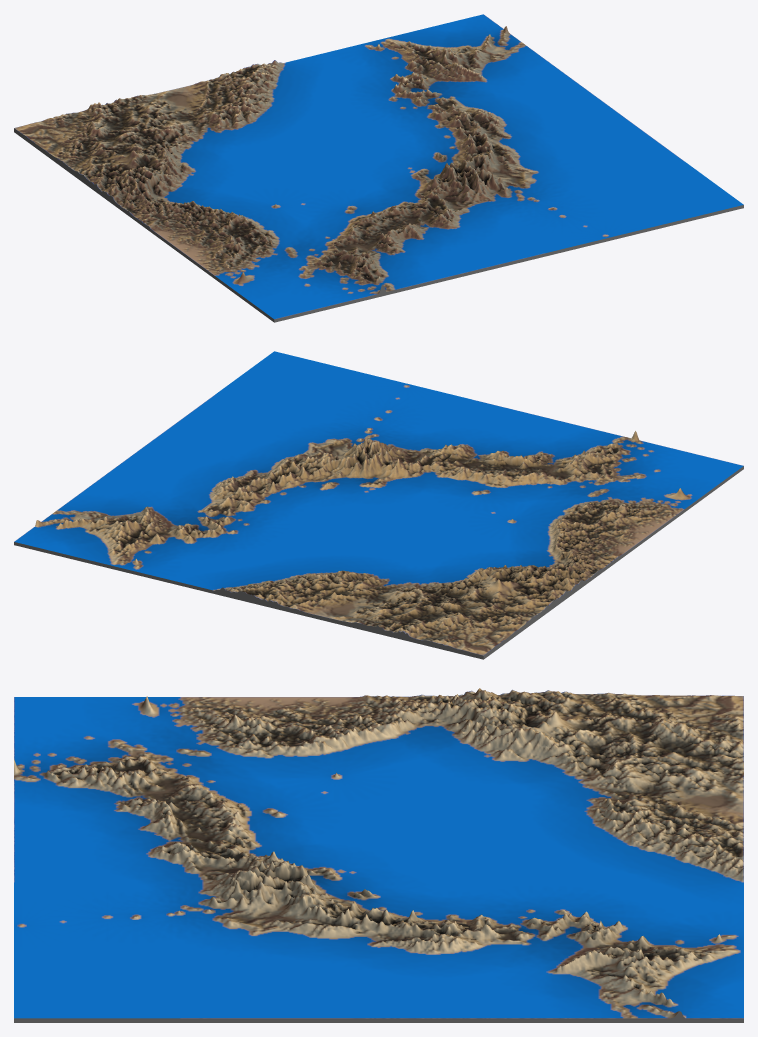
File: japan2.glb
The picture shows the model from 3 angles, top to bottom: view 1: azimuth 30°, elevation 25°; view 2: azimuth 150°, elevation 25°; view 3: azimuth 270°, elevation 25°; orthographic projection. The views are drawn at different scales.
Visible parts, largest first — view 1: japan; view 2: japan; view 3: japan.
Boxes of the visible parts, left/top/right/bottom form: japan: left=14, top=14, right=743, bottom=322; japan: left=14, top=351, right=743, bottom=659; japan: left=14, top=688, right=743, bottom=1022.
Size of the model in its own units: 3.77 by 0.1505 by 3.62.
2 materials, 1 textured.
